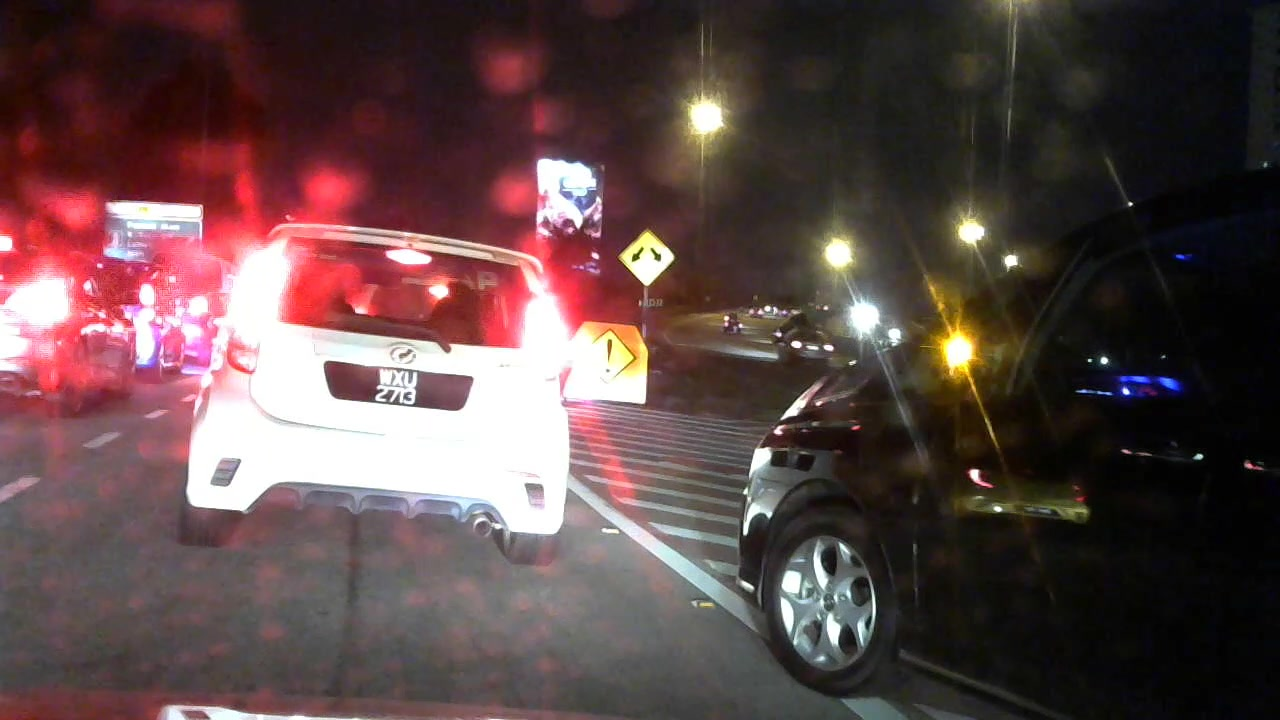Car: (724, 170, 1280, 714), (194, 214, 574, 559), (1, 237, 141, 402), (114, 255, 194, 367), (180, 235, 235, 369), (772, 321, 842, 364), (715, 308, 752, 346)
